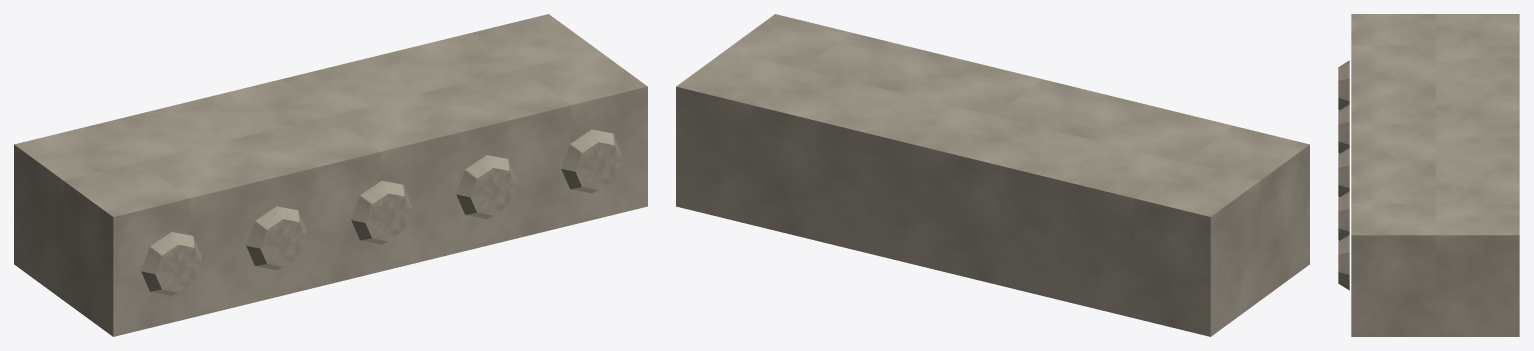
File: Ruin_Wall_3.gltf
The picture shows the model from 3 angles, left to right: view 1: azimuth 30°, elevation 25°; view 2: azimuth 150°, elevation 25°; view 3: azimuth 270°, elevation 25°; orthographic projection. The views are drawn at different scales.
Visible parts, largest first — view 1: Ruin_Wall_3; view 2: Ruin_Wall_3; view 3: Ruin_Wall_3.
Part boxes in pixels (x1,y1,x2,y2): Ruin_Wall_3: (14, 14, 647, 336); Ruin_Wall_3: (676, 14, 1309, 336); Ruin_Wall_3: (1338, 14, 1519, 336).
Bounding box in the file's own units: 2.8 × 0.6 × 0.97.
1 material, 1 textured.
